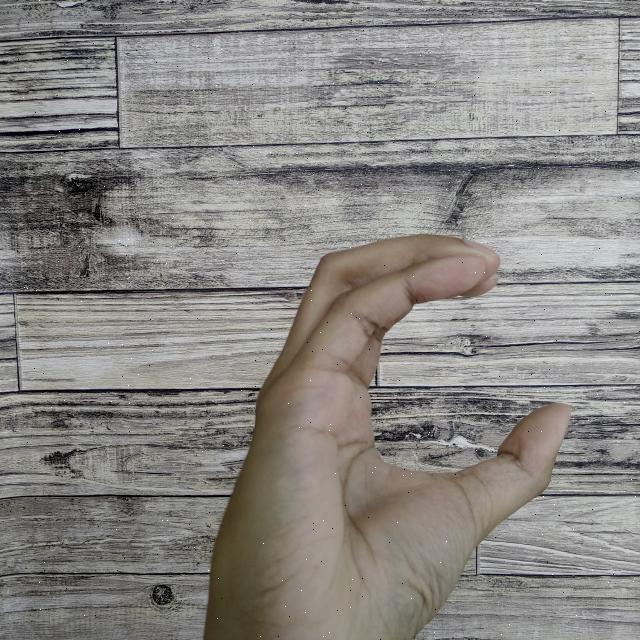C: (197, 232, 572, 640)
